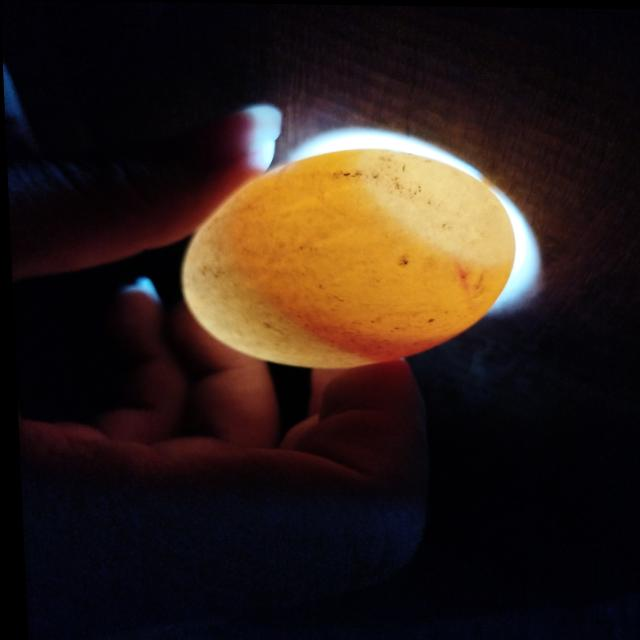Camara de Ar: (359, 149, 513, 261)
